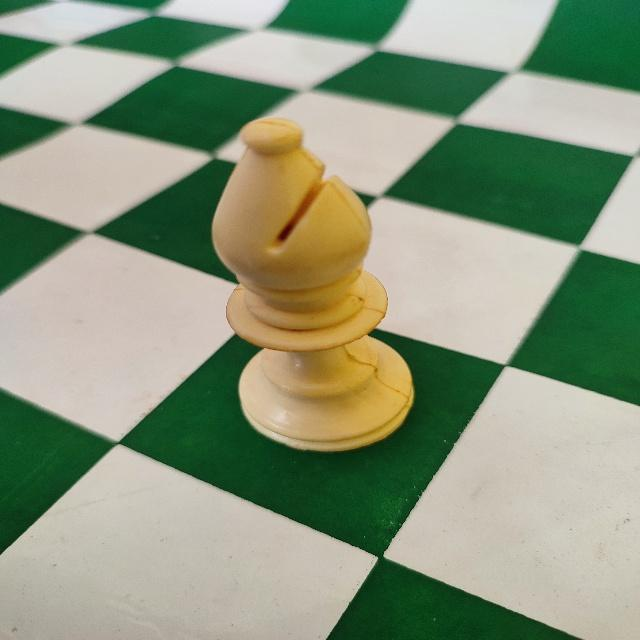Bishop: (209, 114, 418, 457)
